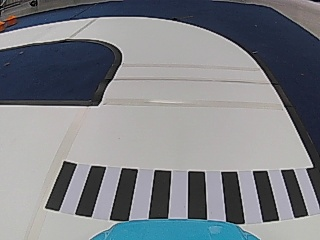CrossWalk: (42, 161, 319, 220)
